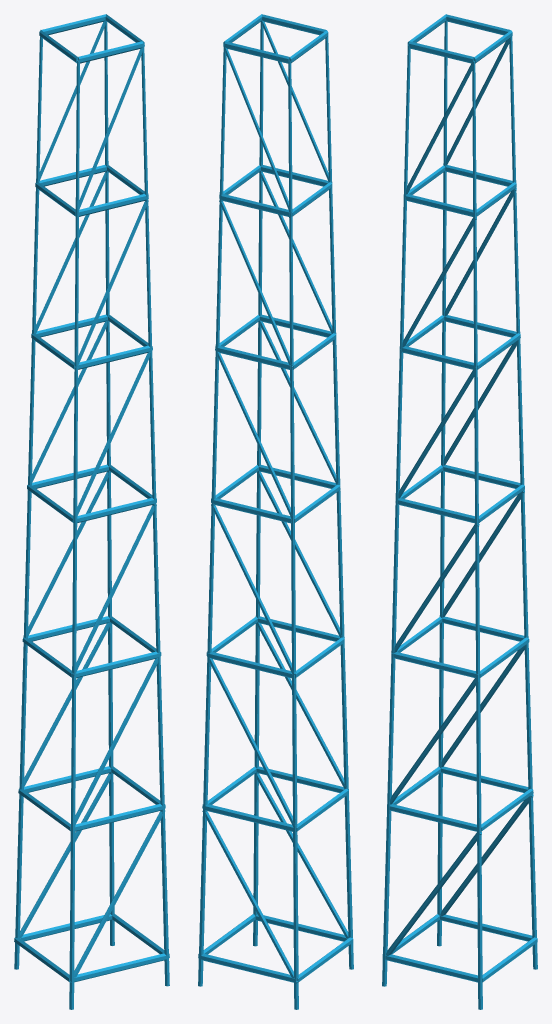
The model's file is Metal_Tower_04_Lod0.fbx.
3 renders of one model, left to right at view 1: azimuth 30°, elevation 25°; view 2: azimuth 150°, elevation 25°; view 3: azimuth 330°, elevation 25°, orthographic.
Visible parts, largest first — view 1: Metal_Tower_04_Lod0; view 2: Metal_Tower_04_Lod0; view 3: Metal_Tower_04_Lod0.
Part boxes in pixels (x1,y1,x2,y2): Metal_Tower_04_Lod0: [14, 14, 169, 1009]; Metal_Tower_04_Lod0: [198, 14, 353, 1009]; Metal_Tower_04_Lod0: [382, 14, 537, 1009].
Size of the model in its own units: 127 by 1137 by 126.
